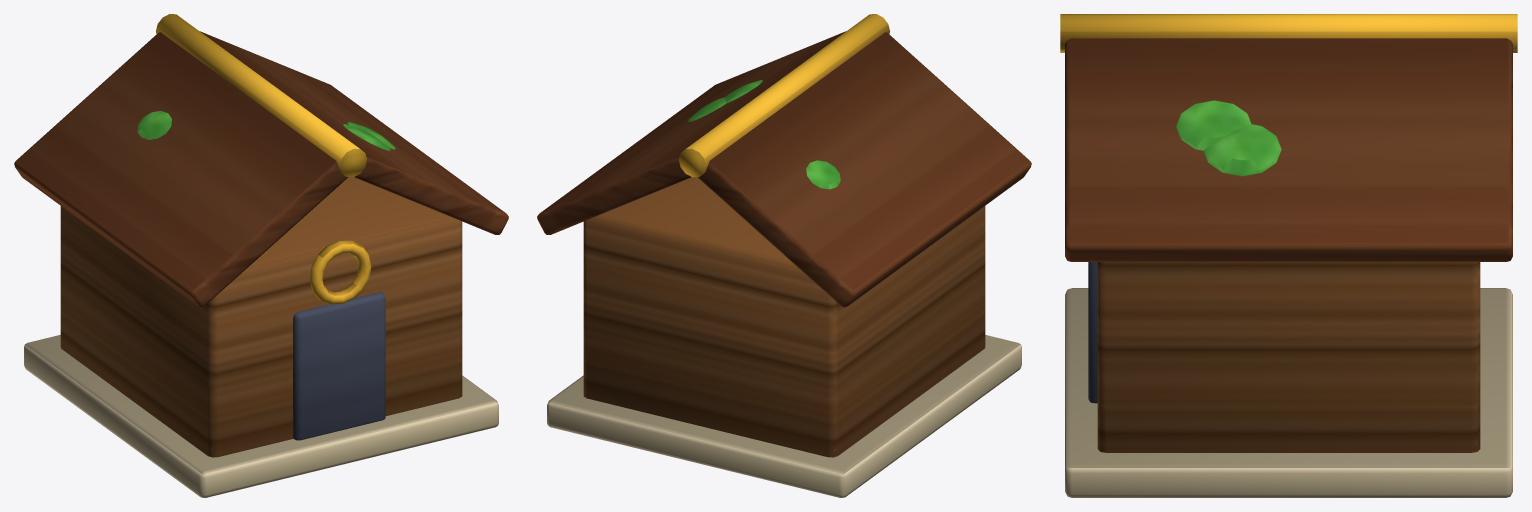
The model's file is g_prop_doghouse.glb.
3 renders of one model, left to right at view 1: azimuth 30°, elevation 25°; view 2: azimuth 150°, elevation 25°; view 3: azimuth 270°, elevation 25°, orthographic. The views are drawn at different scales.
Parts seen in each view (by area): view 1: DogBody, DogRoofL, DogFloor, DogDoorDark, DogRoofR, DogRidge, DogHorseshoe, DogMossClump_2; view 2: DogBody, DogRoofL, DogFloor, DogRoofR, DogRidge, DogMossClump_2; view 3: DogRoofR, DogBody, DogFloor, DogRidge, DogMossClump_1, DogMossClump_0, DogDoorDark.
Part boxes in pixels (x1,y1,x2,y2): DogBody: (60,177,462,457); DogRoofL: (14,32,348,307); DogFloor: (24,335,498,497); DogDoorDark: (293,292,385,440); DogRoofR: (200,31,508,234); DogRidge: (156,14,366,177); DogHorseshoe: (309,240,371,304); DogMossClump_2: (137,111,171,139); DogBody: (583,177,985,457); DogRoofL: (697,32,1031,307); DogFloor: (547,335,1021,497); DogRoofR: (537,31,845,234); DogRidge: (679,14,889,177); DogMossClump_2: (806,160,840,189); DogRoofR: (1065,38,1512,261); DogBody: (1097,262,1480,452); DogFloor: (1065,288,1512,497); DogRidge: (1060,14,1517,52); DogMossClump_1: (1203,124,1281,176); DogMossClump_0: (1176,100,1251,150); DogDoorDark: (1088,262,1097,403).
Size of the model in its own units: 0.9766 by 0.932 by 0.98.
Materials: 6 (6 with a texture image).
